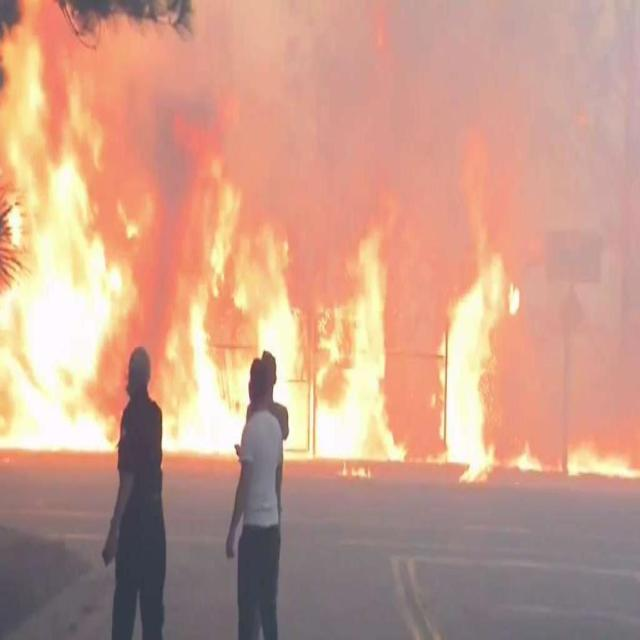Fire: (2, 24, 640, 482)
